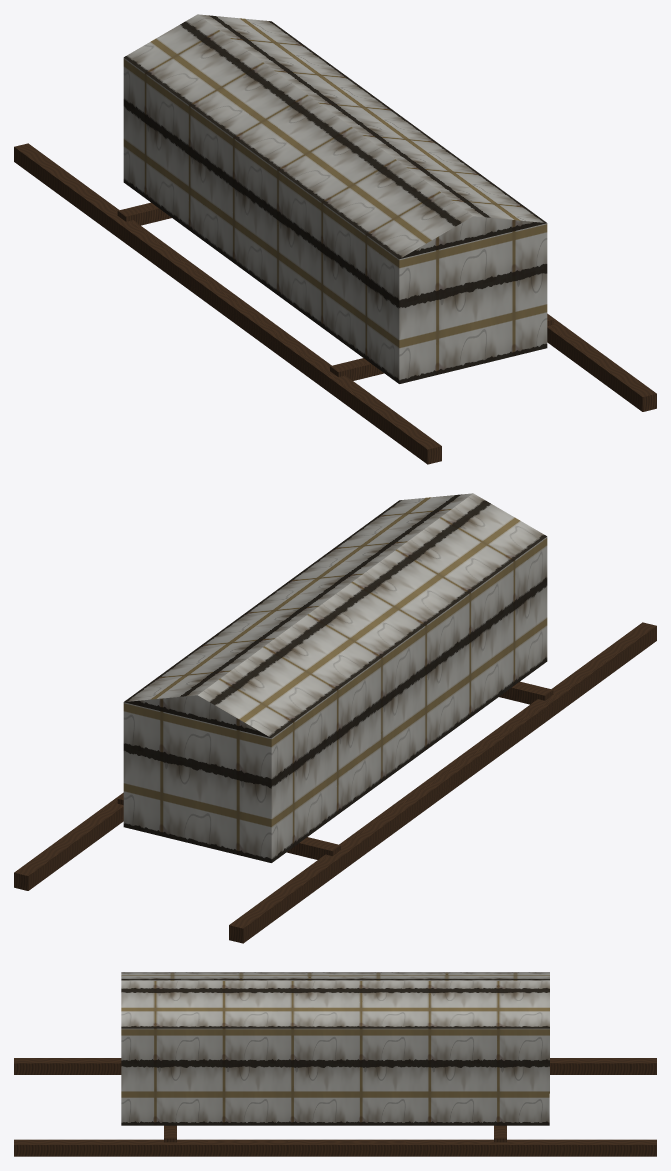
The model's file is Coffin.fbx.
3 renders of one model, top to bottom at view 1: azimuth 30°, elevation 25°; view 2: azimuth 150°, elevation 25°; view 3: azimuth 270°, elevation 25°, orthographic. The views are drawn at different scales.
Parts seen in each view (by area): view 1: Coffin; view 2: Coffin; view 3: Coffin.
Boxes of the visible parts, x1,y1,x2,y2 form: Coffin: (14,14,656,464); Coffin: (14,493,656,943); Coffin: (14,972,656,1156).
Size of the model in its own units: 336 by 238 by 1050.
Materials: 2 (2 with a texture image).
